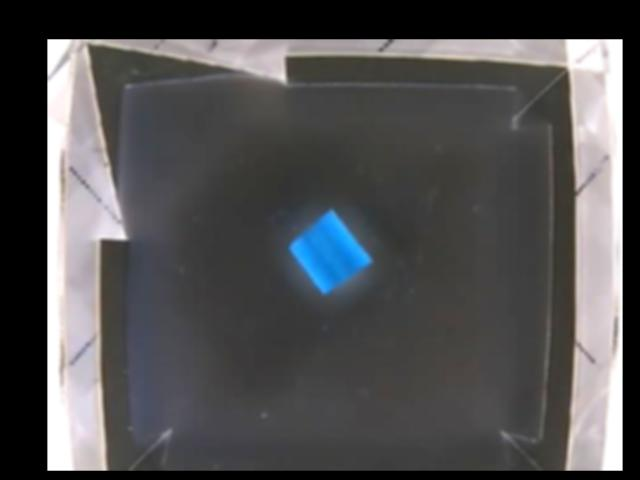Carrot: (289, 210, 369, 290)
